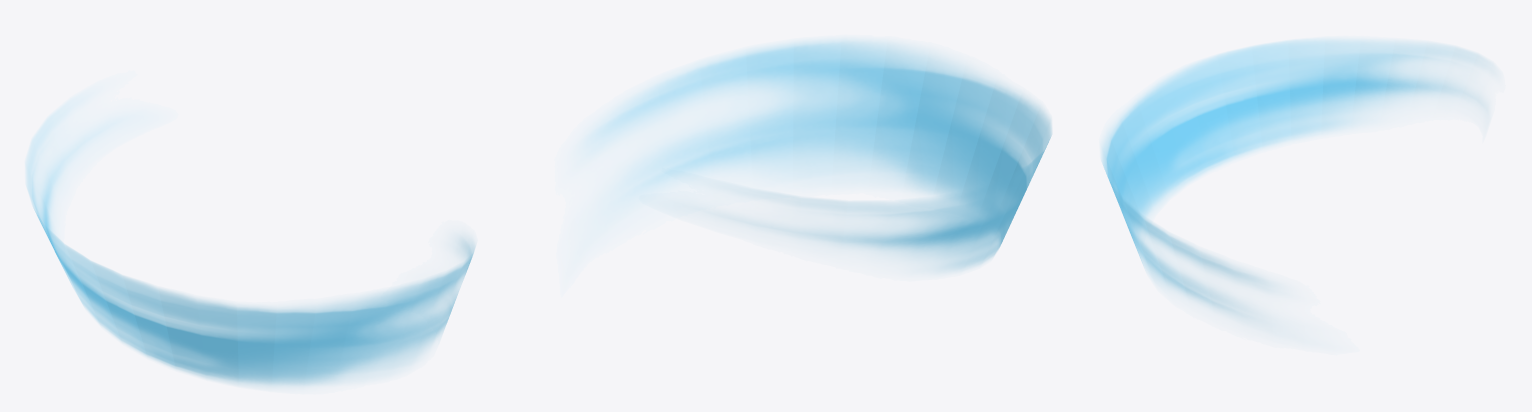
The model's file is hawkshot-wind.glb.
3 views of the same model, side by side, from view 1: azimuth 30°, elevation 25°; view 2: azimuth 150°, elevation 25°; view 3: azimuth 270°, elevation 25° (orthographic). The views are drawn at different scales.
Parts seen in each view (by area): view 1: WindTunnel source mesh; view 2: WindTunnel source mesh; view 3: WindTunnel source mesh.
Part boxes in pixels (x1=…): WindTunnel source mesh: x1=26, y1=104, x2=475, y2=386; WindTunnel source mesh: x1=584, y1=39, x2=1051, y2=272; WindTunnel source mesh: x1=1101, y1=39, x2=1489, y2=322.
Bounding box in the file's own units: 3.74 × 2.76 × 3.74.
Materials: 1 (1 with a texture image).
